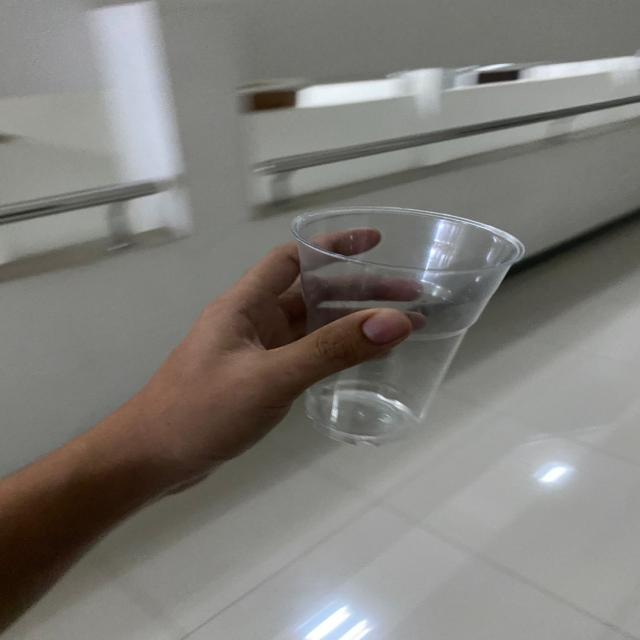glass: (283, 201, 532, 450)
